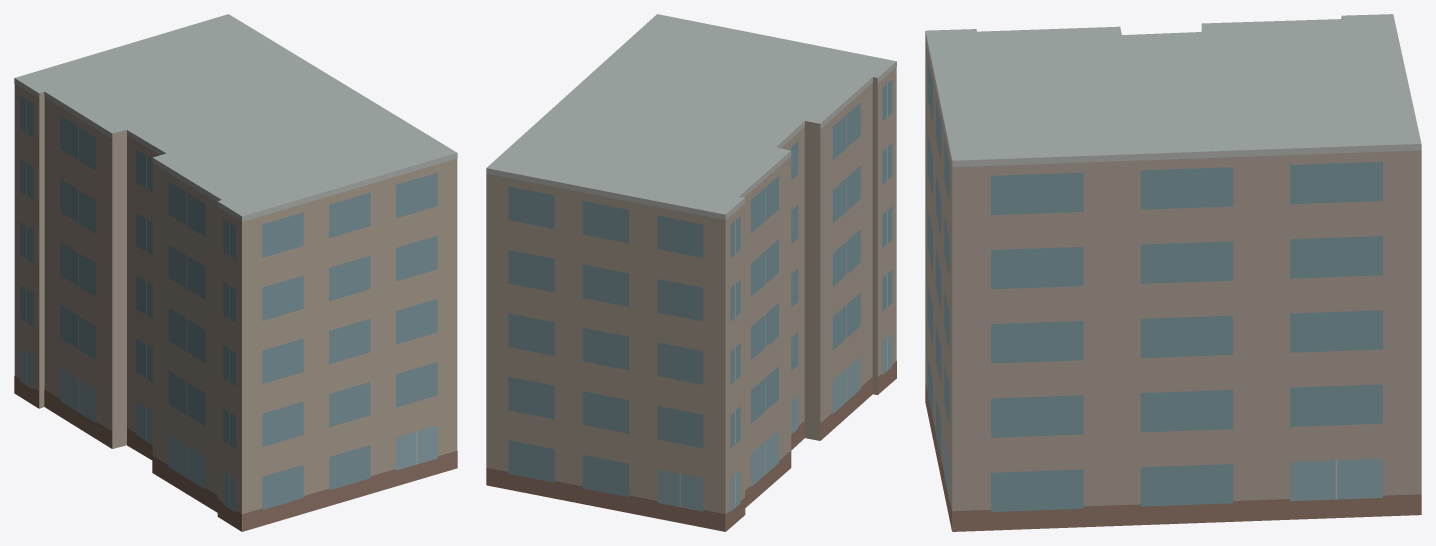
File: survey-upis-32676384.glb
3 renders of one model, left to right at view 1: azimuth 30°, elevation 25°; view 2: azimuth 150°, elevation 25°; view 3: azimuth 270°, elevation 25°, orthographic. The views are drawn at different scales.
Visible parts, largest first — view 1: survey-upis-32676384.tmp; view 2: survey-upis-32676384.tmp; view 3: survey-upis-32676384.tmp.
Boxes of the visible parts, bbox=[...] form: survey-upis-32676384.tmp: bbox=[14, 14, 457, 531]; survey-upis-32676384.tmp: bbox=[486, 14, 896, 531]; survey-upis-32676384.tmp: bbox=[925, 14, 1421, 531].
Bounding box in the file's own units: 11.75 × 13.85 × 16.79.
